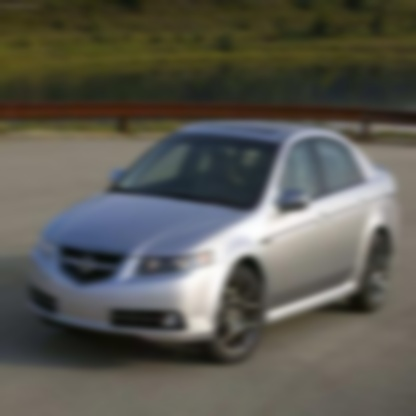Vehicle: (24, 114, 402, 367)
